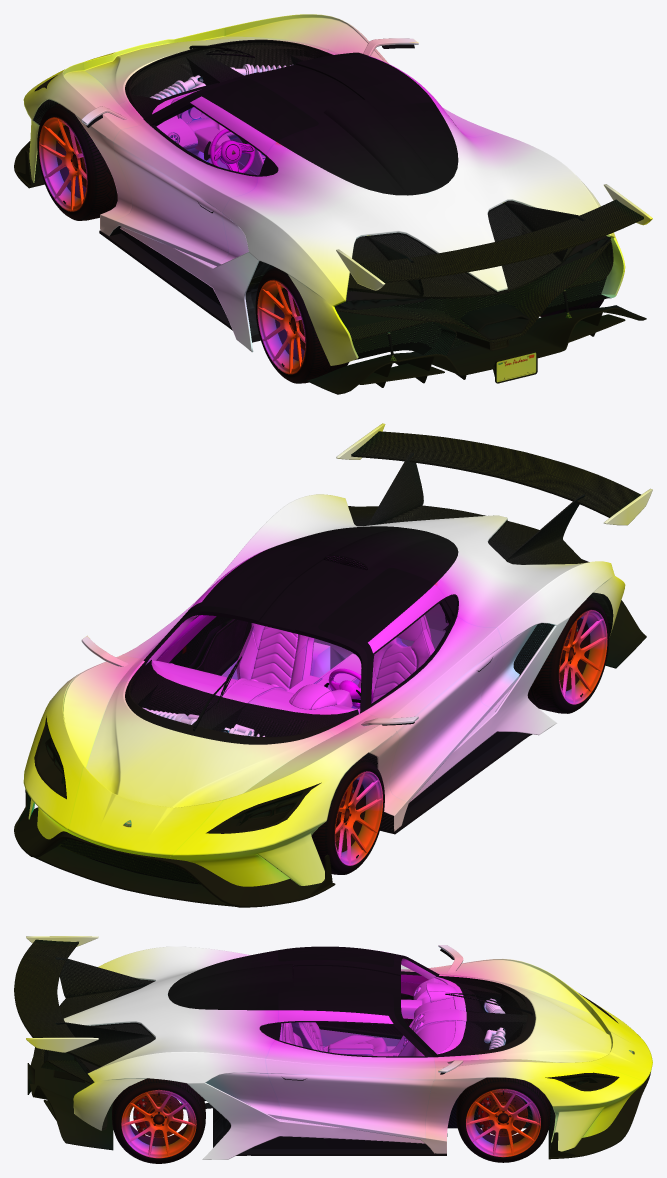
The model's file is tyrant.glb.
3 renders of one model, top to bottom at view 1: azimuth 30°, elevation 25°; view 2: azimuth 150°, elevation 25°; view 3: azimuth 270°, elevation 25°, orthographic. The views are drawn at different scales.
Visible parts, largest first — view 1: chassis, bodyshell, door_dside_f, misc_b, extra_1, wheel_lf, wheel_lr, window_lf, boot, door_pside_f, misc_a, steeringwheel (+1 smaller); view 2: chassis, bodyshell, boot, door_dside_f, extra_1, door_pside_f, wheel_lr, wheel_lf, window_lf, misc_b, steeringwheel; view 3: bodyshell, chassis, door_pside_f, boot, wheel_rf, wheel_rr, extra_1, window_rf, misc_b, door_dside_f.
Boxes of the visible parts, left/top/right/bottom form: chassis: left=14, top=39, right=613, bottom=360; bodyshell: left=23, top=14, right=625, bottom=365; door_dside_f: left=113, top=78, right=318, bottom=264; misc_b: left=307, top=289, right=646, bottom=394; extra_1: left=336, top=184, right=652, bottom=290; wheel_lf: left=37, top=104, right=117, bottom=220; wheel_lr: left=255, top=267, right=349, bottom=383; window_lf: left=154, top=105, right=265, bottom=174; boot: left=83, top=27, right=333, bottom=103; door_pside_f: left=318, top=54, right=496, bottom=137; misc_a: left=460, top=303, right=530, bottom=339; steeringwheel: left=204, top=128, right=254, bottom=173; chassis: left=14, top=452, right=613, bottom=907; bodyshell: left=23, top=494, right=625, bottom=886; boot: left=68, top=681, right=333, bottom=856; door_dside_f: left=318, top=568, right=502, bottom=802; extra_1: left=336, top=423, right=652, bottom=525; door_pside_f: left=122, top=545, right=318, bottom=673; wheel_lr: left=527, top=597, right=609, bottom=713; wheel_lf: left=311, top=757, right=384, bottom=874; window_lf: left=371, top=600, right=454, bottom=703; misc_b: left=605, top=600, right=646, bottom=668; steeringwheel: left=324, top=668, right=373, bottom=707; bodyshell: left=64, top=945, right=644, bottom=1159; chassis: left=41, top=948, right=650, bottom=1159; door_pside_f: left=265, top=987, right=435, bottom=1139; boot: left=477, top=978, right=652, bottom=1081; wheel_rf: left=456, top=1077, right=550, bottom=1162; wheel_rr: left=112, top=1078, right=205, bottom=1163; extra_1: left=14, top=936, right=98, bottom=1052; window_rf: left=277, top=1023, right=423, bottom=1055; misc_b: left=27, top=1047, right=113, bottom=1150; door_dside_f: left=278, top=946, right=435, bottom=1035.
Size of the model in its own units: 2.54 by 1.33 by 5.45.
22 materials, 16 textured.
